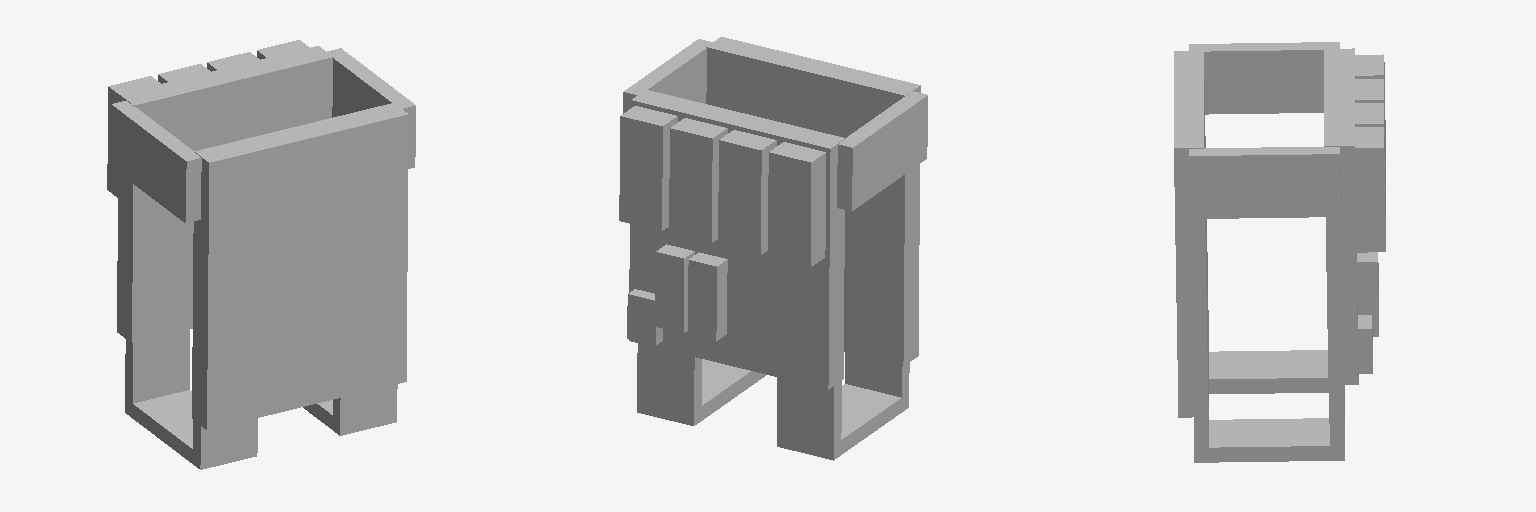
The model's file is tactical_vest_lv1.obj.
3 views of the same model, side by side, from view 1: azimuth 30°, elevation 25°; view 2: azimuth 150°, elevation 25°; view 3: azimuth 270°, elevation 25° (orthographic).
Visible parts, largest first — view 1: armorModel; view 2: armorModel; view 3: armorModel.
Boxes of the visible parts, x1=… form: armorModel: x1=107, y1=40, x2=415, y2=469; armorModel: x1=619, y1=37, x2=927, y2=460; armorModel: x1=1174, y1=42, x2=1385, y2=462.
Bounding box in the file's own units: 9.05 × 11.95 × 7.24.